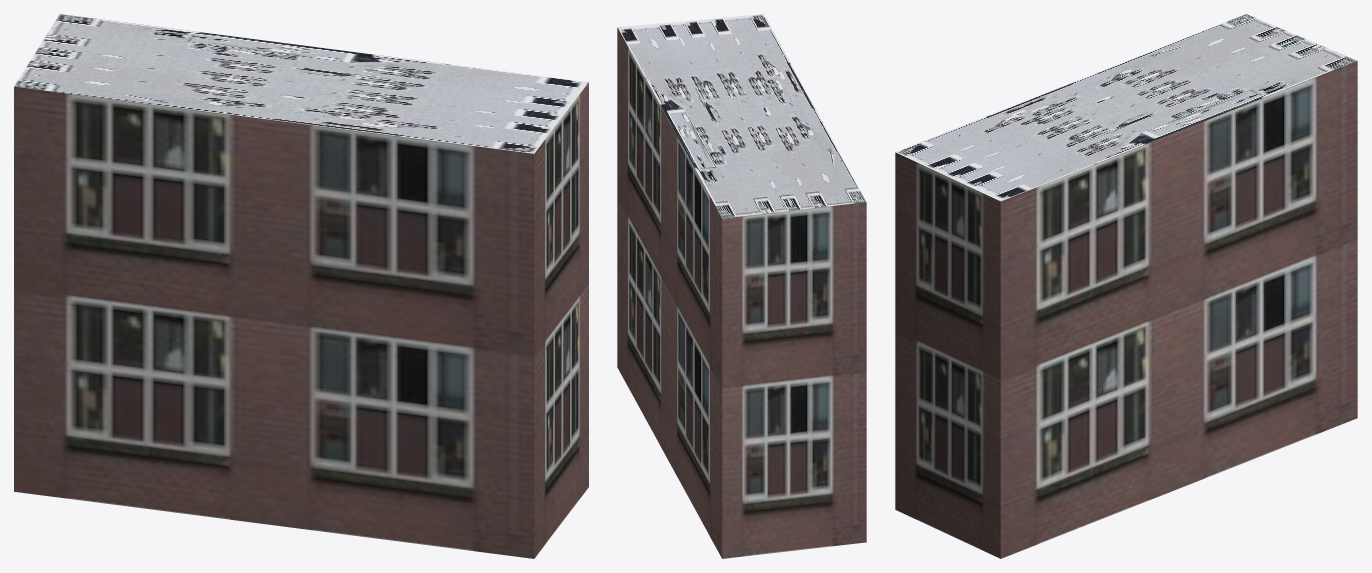
The model's file is ResTex__1467.fbx.
3 views of the same model, side by side, from view 1: azimuth 30°, elevation 25°; view 2: azimuth 150°, elevation 25°; view 3: azimuth 270°, elevation 25° (orthographic). The views are drawn at different scales.
Parts seen in each view (by area): view 1: CityEngineMaterial_12_m, CityEngineMaterial_m; view 2: CityEngineMaterial_12_m, CityEngineMaterial_m; view 3: CityEngineMaterial_12_m, CityEngineMaterial_m.
Boxes of the visible parts, box(x1,y1,x2,y2) form: CityEngineMaterial_12_m: box(14, 82, 588, 558); CityEngineMaterial_m: box(14, 14, 588, 153); CityEngineMaterial_12_m: box(617, 27, 866, 558); CityEngineMaterial_m: box(617, 14, 865, 218); CityEngineMaterial_12_m: box(895, 61, 1357, 558); CityEngineMaterial_m: box(895, 14, 1357, 201).
Size of the model in its own units: 6.75 by 6 by 7.03.
2 materials, 2 textured.
